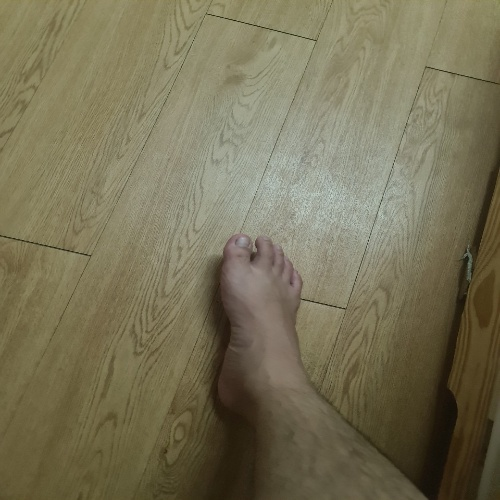3: (224, 234, 254, 264)
Top_Foot: (217, 234, 302, 411)
